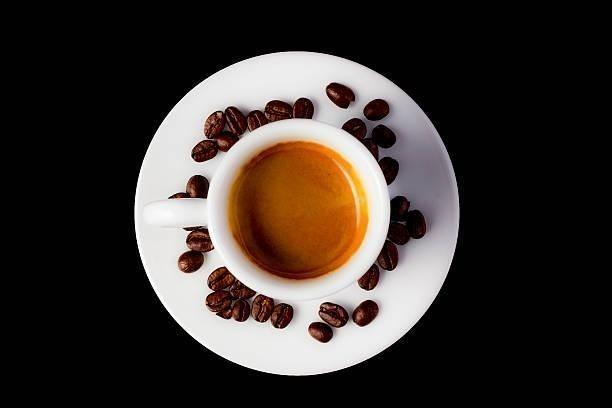cup-handle: (141, 111, 395, 302)
